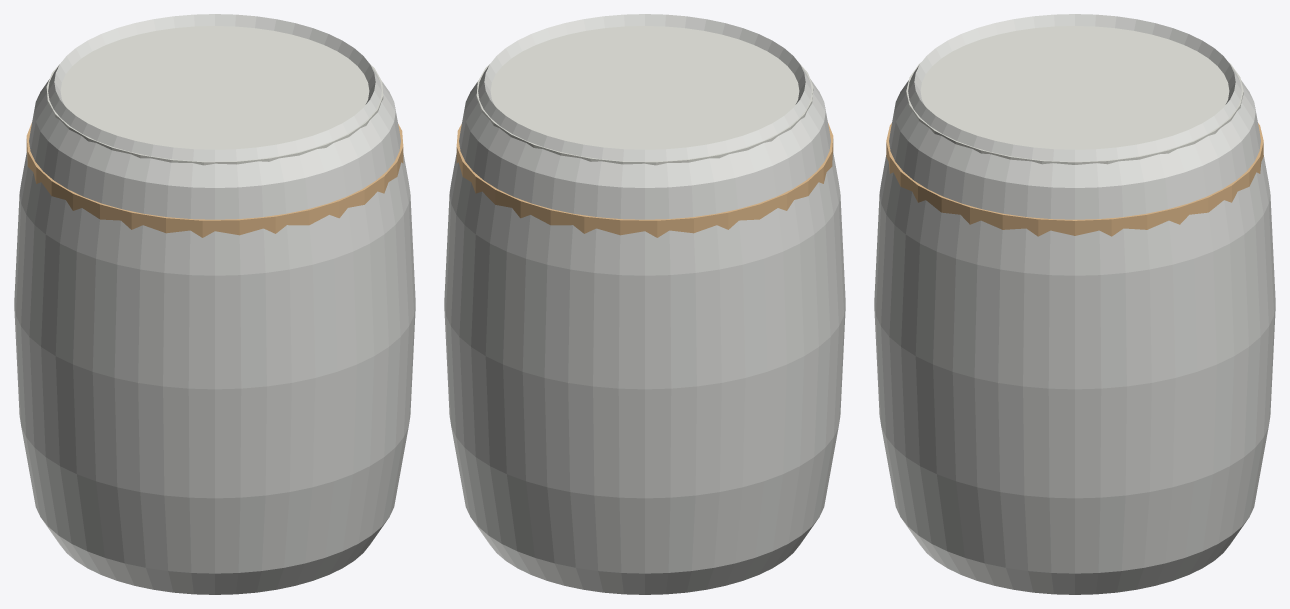
File: chast.gltf
The picture shows the model from 3 angles, left to right: view 1: azimuth 30°, elevation 25°; view 2: azimuth 150°, elevation 25°; view 3: azimuth 270°, elevation 25°; orthographic projection.
Parts seen in each view (by area): view 1: Torus, Cylinder.002, Cylinder.001; view 2: Torus, Cylinder.002, Cylinder.001; view 3: Torus, Cylinder.002, Cylinder.001.
Part boxes in pixels (x1,y1,x2,y2): Torus: (14, 14, 415, 594); Cylinder.002: (46, 26, 383, 165); Cylinder.001: (26, 123, 403, 237); Torus: (444, 14, 845, 594); Cylinder.002: (476, 26, 813, 165); Cylinder.001: (456, 123, 833, 237); Torus: (874, 14, 1275, 594); Cylinder.002: (906, 26, 1243, 164); Cylinder.001: (886, 123, 1263, 236).
Bounding box in the file's own units: 2.5 × 3.06 × 2.5.
